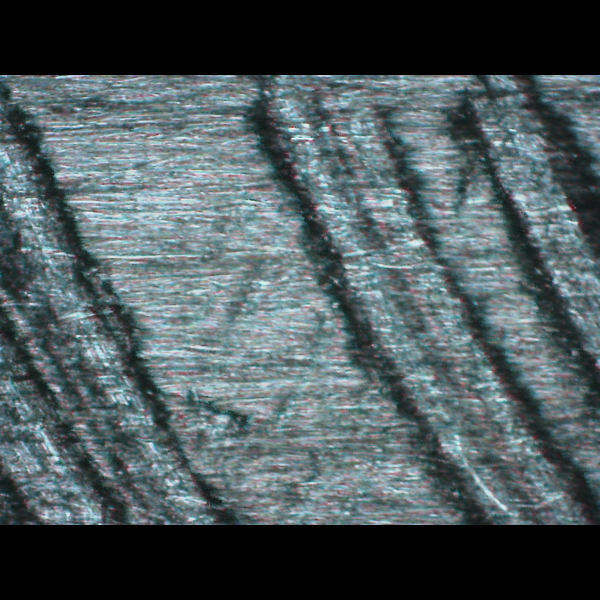d: (214, 79, 599, 519), (0, 84, 243, 522)
